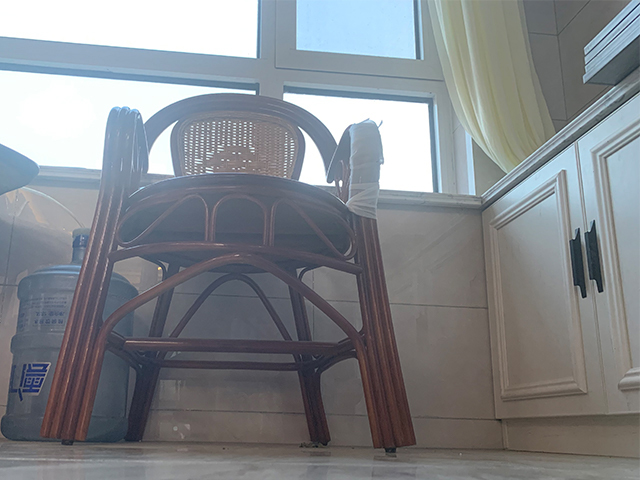cabinet: (481, 61, 640, 459)
stool: (38, 91, 418, 455)
